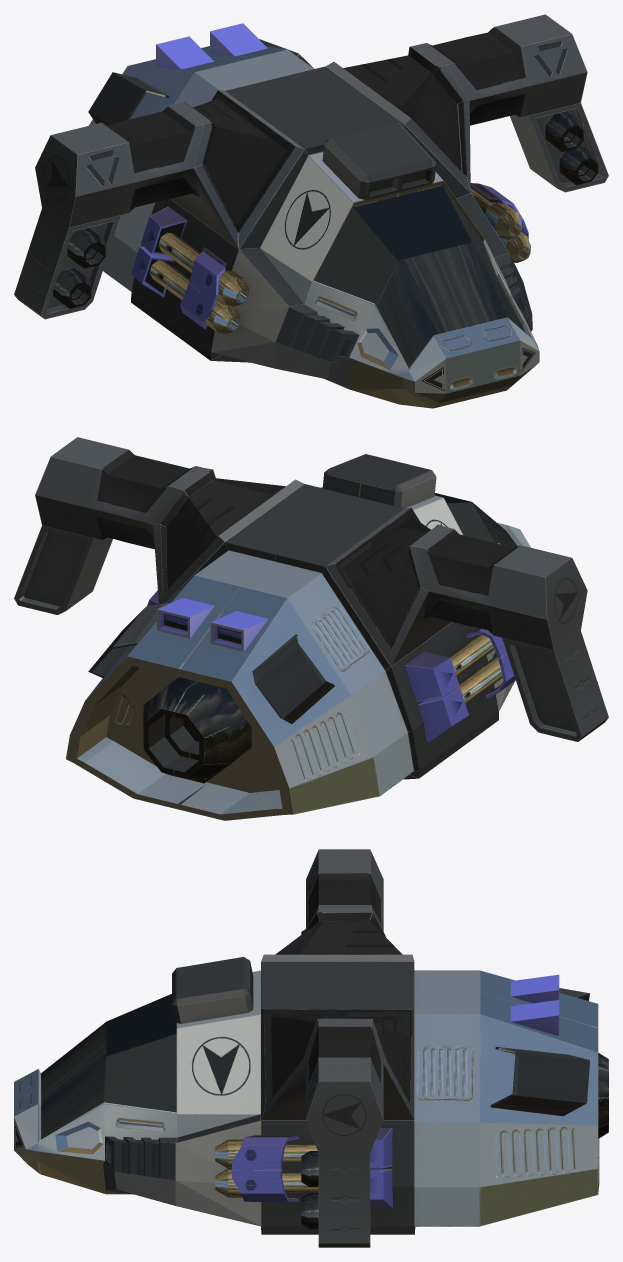
Rendered from parcali_sonuncu.FBX.
The picture shows the model from 3 angles, top to bottom: view 1: azimuth 30°, elevation 25°; view 2: azimuth 150°, elevation 25°; view 3: azimuth 270°, elevation 25°; orthographic projection. The views are drawn at different scales.
Visible parts, largest first — view 1: Object008, Object010, Object006, Object007, Object034, Object011, Object005, Object024, Object012, sonuncu001, Object009, Object029 (+18 smaller); view 2: sonuncu001, Object008, Object006, Object031, Object007, Object005, Object027, Object029, Object009, Object028, Object022, Object010 (+8 smaller); view 3: Object031, Object006, Object010, Object008, Object005, Object013, Object035, Object033, Object032, Object025, Object009, sonuncu001 (+12 smaller).
Boxes of the visible parts, left/top/right/bottom form: Object008: left=94, top=79, right=349, bottom=249; Object010: left=314, top=185, right=525, bottom=368; Object006: left=275, top=25, right=535, bottom=198; Object007: left=14, top=124, right=127, bottom=319; Object034: left=210, top=248, right=359, bottom=388; Object011: left=404, top=317, right=539, bottom=408; Object005: left=502, top=14, right=608, bottom=192; Object024: left=260, top=248, right=432, bottom=408; Object012: left=260, top=152, right=398, bottom=280; sonuncu001: left=88, top=57, right=267, bottom=291; Object009: left=322, top=122, right=436, bottom=200; Object029: left=131, top=199, right=249, bottom=362; sonuncu001: left=178, top=561, right=418, bottom=820; Object008: left=275, top=496, right=528, bottom=670; Object006: left=87, top=448, right=354, bottom=604; Object031: left=66, top=550, right=274, bottom=809; Object007: left=495, top=547, right=608, bottom=741; Object005: left=14, top=437, right=120, bottom=614; Object027: left=143, top=677, right=251, bottom=783; Object029: left=391, top=622, right=498, bottom=778; Object009: left=322, top=454, right=436, bottom=508; Object028: left=252, top=634, right=334, bottom=723; Object022: left=405, top=651, right=459, bottom=702; Object010: left=435, top=493, right=517, bottom=547; Object031: left=414, top=992, right=599, bottom=1232; Object006: left=261, top=985, right=414, bottom=1120; Object010: left=41, top=994, right=176, bottom=1139; Object008: left=261, top=870, right=414, bottom=985; Object005: left=306, top=1061, right=383, bottom=1247; Object013: left=103, top=1114, right=260, bottom=1226; Object035: left=176, top=992, right=260, bottom=1113; Object033: left=38, top=1102, right=260, bottom=1194; Object032: left=261, top=1120, right=414, bottom=1234; Object025: left=490, top=1047, right=589, bottom=1116; Object009: left=172, top=957, right=253, bottom=1023; sonuncu001: left=414, top=970, right=599, bottom=1158.
Bounding box in the file's own units: 533 × 215 × 502.
